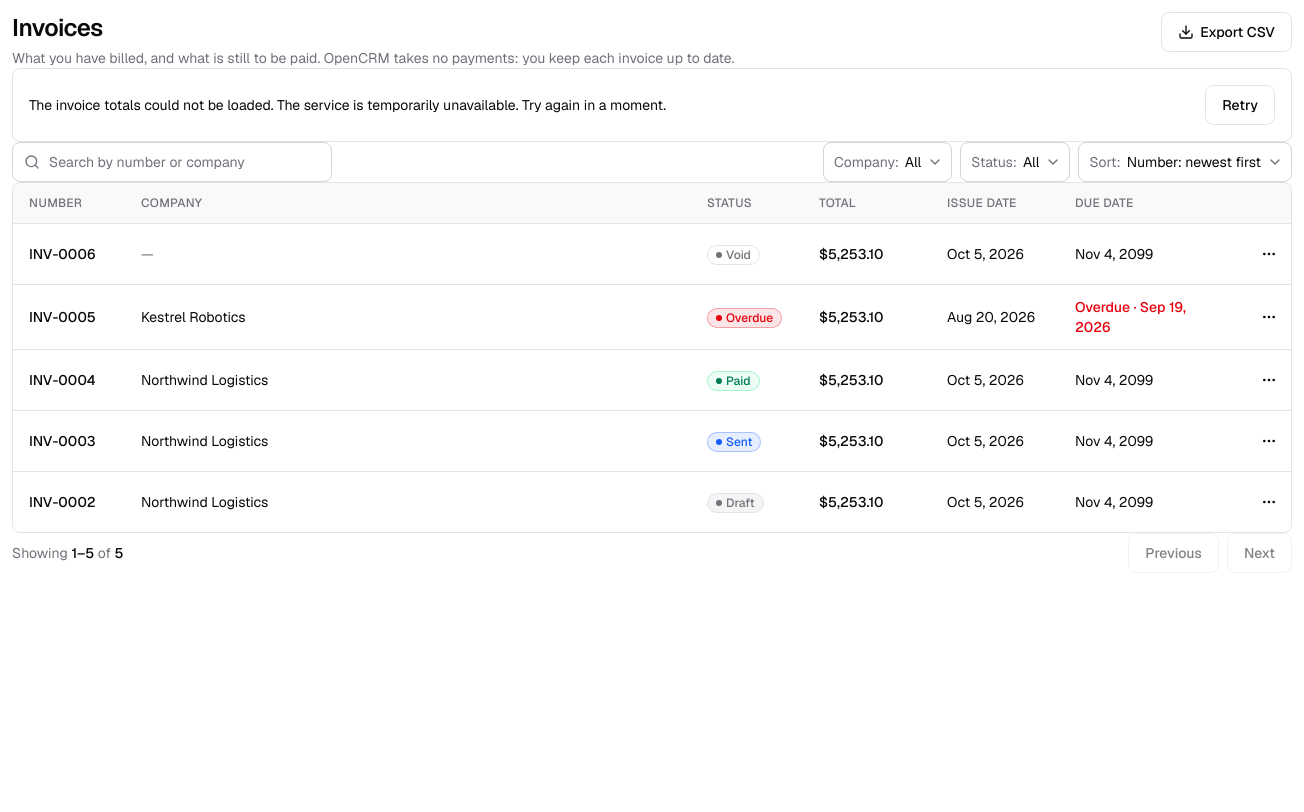
Test case: InvoicesPage › keeps the list when the totals fail, with their own message and Retry
Expected: the message shows "The invoice totals could not be loaded. The service is temporarily unavailable. Try again in a moment.", [12,68,1292,142]
Expected: the number of rows is 6, [13,183,1291,223]; [13,223,1291,284]; [13,284,1291,349]; [13,349,1291,410]; [13,410,1291,471]; [13,471,1291,532]
Click the button "Retry" at (1240, 105), box [1205,85,1275,125]
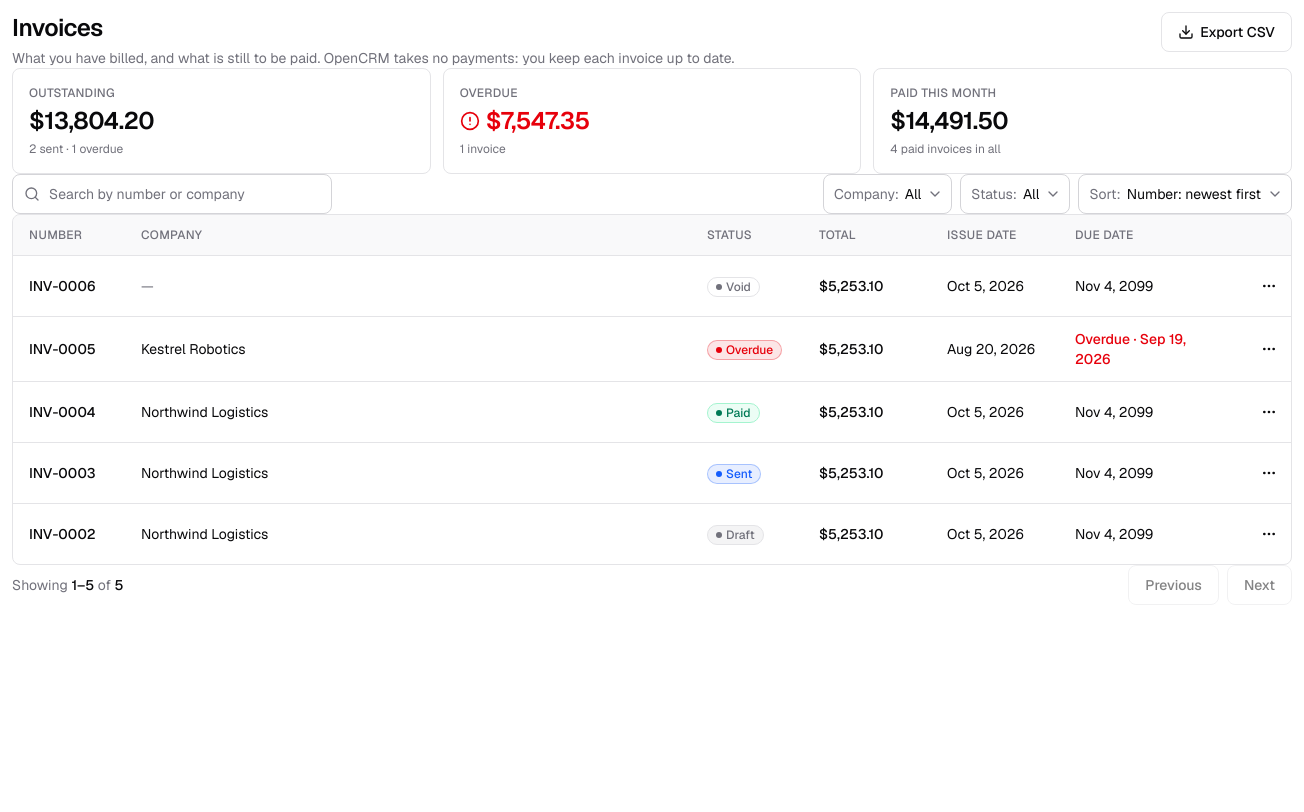
Now the list named "Invoice totals" is shown, box [12,68,1292,174]
